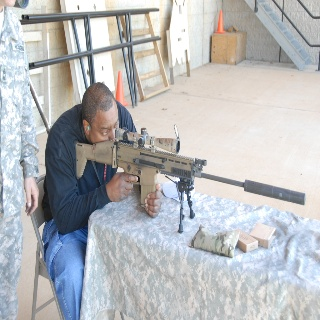rifle: (74, 127, 308, 235)
